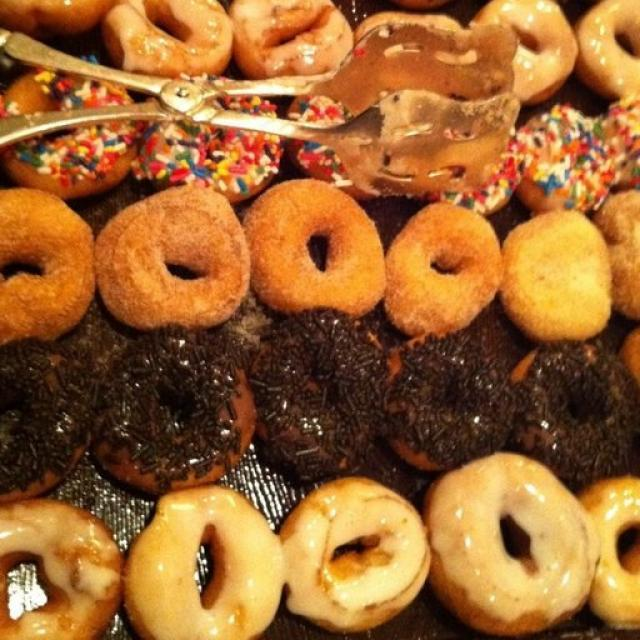Donuts: (1, 1, 640, 640)
